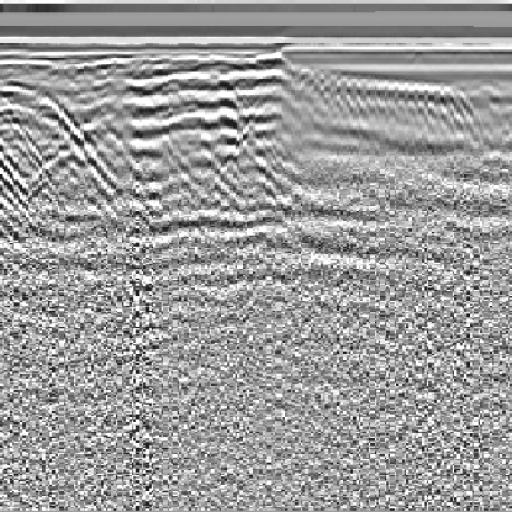metalic: (1, 67, 109, 265)
